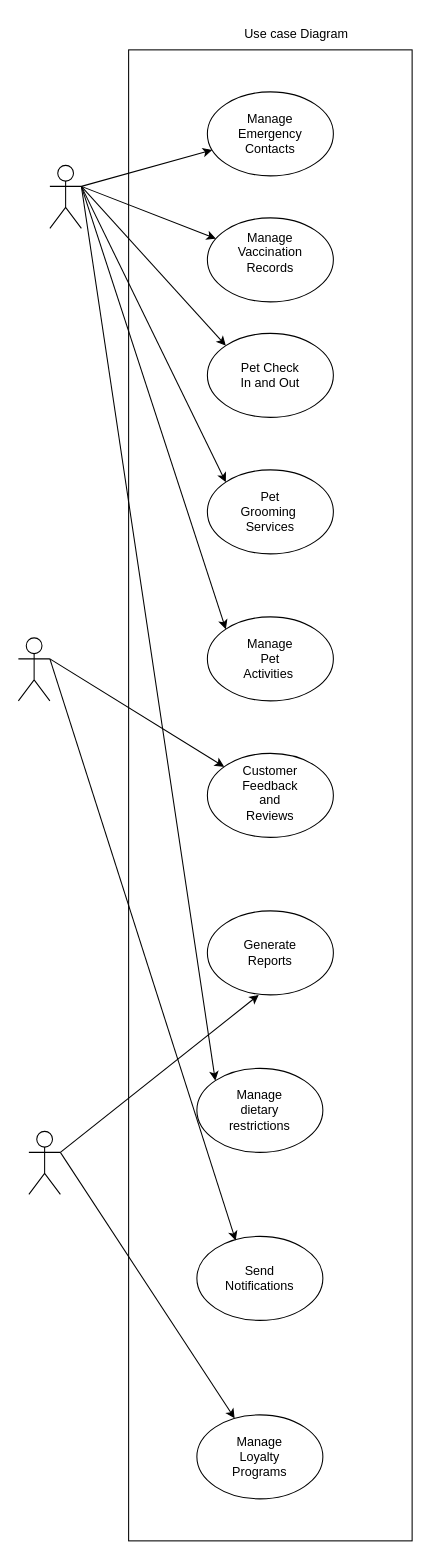
The diagram is 430 pixels wide and 1559 high, and some of its shapes have lost their labels. The centre of each missing label's shape, as x and y in pixels:
"Admin" belongs at (44,1162).
"Client" belongs at (33,669).
"Staff" belongs at (65,196).
